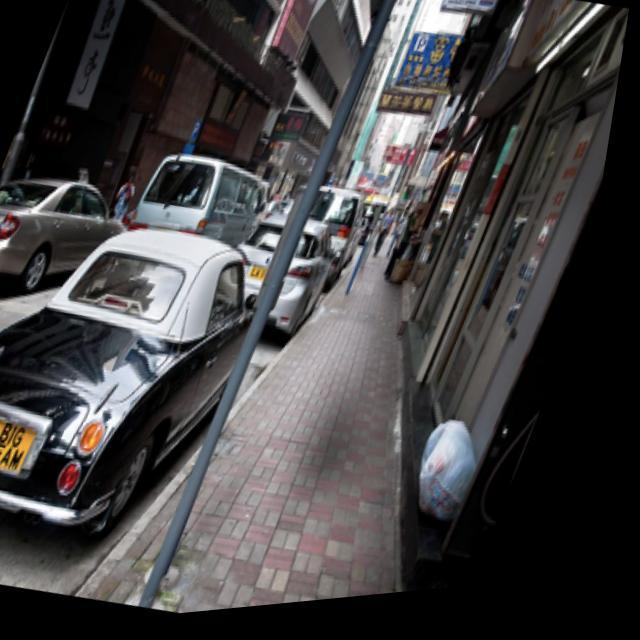license_plate: (0, 412, 59, 489)
